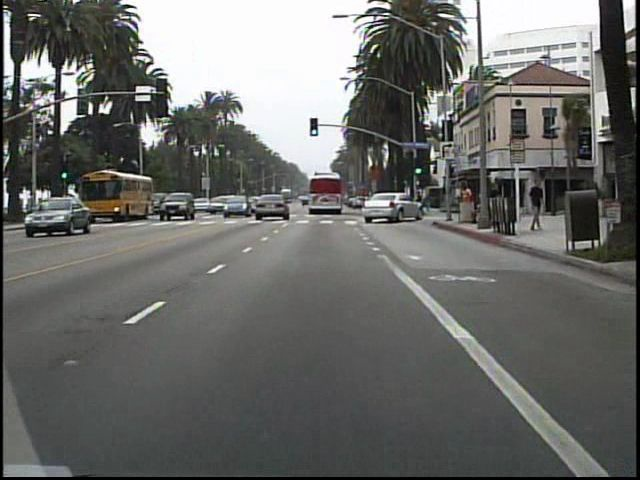person: (525, 176, 548, 234), (486, 180, 502, 225), (457, 181, 474, 222)
